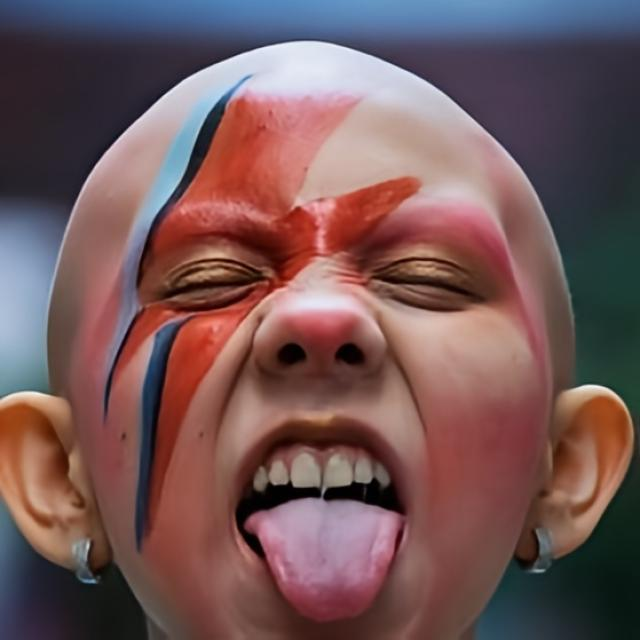disgust: (48, 87, 550, 640)
